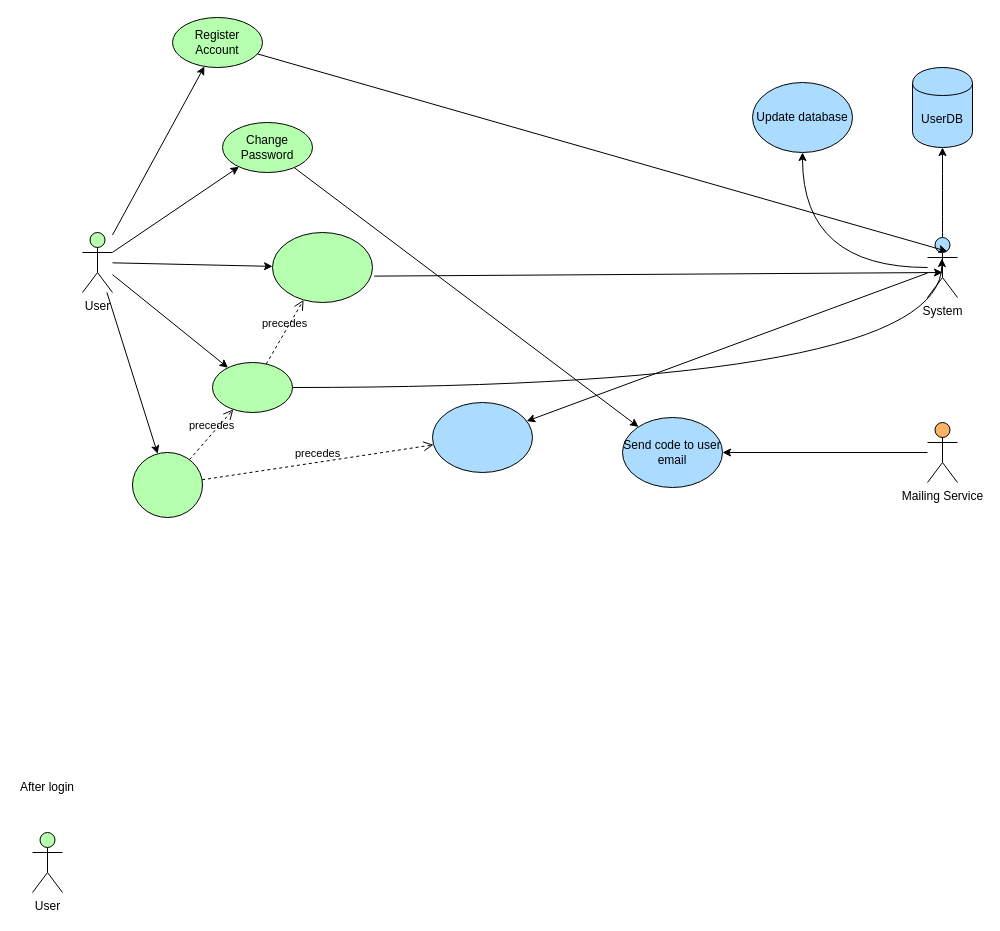
Some shapes in this 1000 by 931 pixel diagram are drawn without their labels. The box of each missing label's shape, as (x1, y1, x2, y2) in pixels:
Check for existing account: (432, 402, 532, 472)
Login: (132, 452, 202, 518)
Update account details: (272, 232, 372, 302)
View Account: (212, 362, 292, 412)
